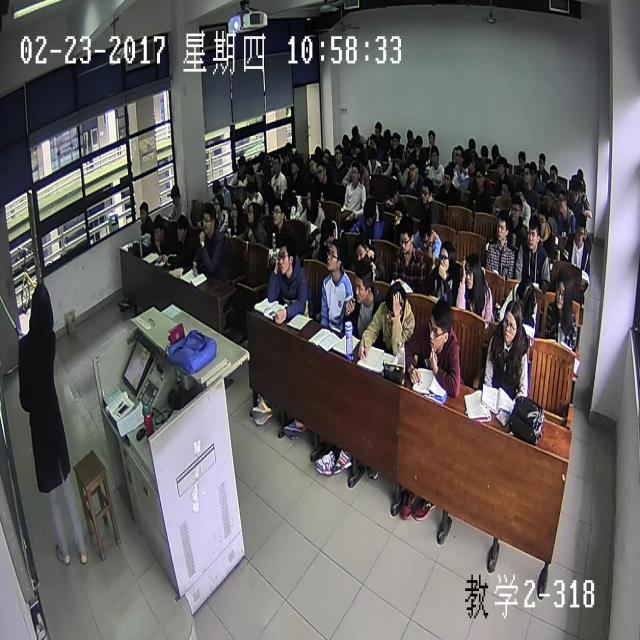person: (30, 278, 54, 326), (429, 299, 452, 349), (383, 281, 408, 323), (354, 263, 374, 304), (554, 270, 574, 307), (354, 233, 376, 266), (437, 239, 457, 275), (462, 252, 482, 288), (518, 275, 535, 316), (504, 300, 520, 343), (278, 241, 294, 276), (326, 238, 342, 273), (397, 217, 413, 252), (150, 214, 167, 243), (418, 211, 432, 246), (526, 213, 539, 247), (536, 202, 549, 235), (320, 216, 333, 248), (386, 180, 402, 205), (574, 210, 586, 243), (243, 163, 258, 189), (544, 181, 556, 212), (137, 198, 151, 224), (392, 205, 404, 235), (496, 211, 508, 241), (568, 178, 580, 208), (169, 182, 182, 209), (174, 213, 187, 239), (362, 197, 374, 225), (420, 177, 434, 201), (494, 152, 506, 180), (366, 150, 382, 170), (201, 206, 213, 232), (285, 136, 298, 160), (270, 203, 283, 227), (454, 146, 466, 172), (228, 200, 242, 222), (210, 175, 222, 200), (366, 128, 378, 153), (389, 150, 401, 175), (306, 189, 318, 212), (354, 150, 369, 168), (280, 145, 290, 171), (282, 191, 295, 211), (408, 159, 418, 185), (244, 180, 255, 203), (235, 153, 245, 178), (248, 202, 258, 227), (428, 145, 439, 167), (513, 182, 523, 206), (557, 190, 567, 213), (411, 128, 422, 148), (500, 178, 510, 200), (509, 195, 519, 217), (372, 118, 383, 137), (381, 128, 392, 147), (404, 126, 415, 145), (390, 128, 400, 148), (450, 147, 460, 167), (214, 192, 224, 212), (315, 158, 324, 180), (258, 152, 267, 172), (307, 157, 317, 175), (426, 128, 437, 144), (443, 166, 451, 188), (467, 138, 477, 155), (528, 159, 538, 176), (517, 150, 526, 168), (490, 144, 499, 161), (351, 164, 359, 183), (475, 168, 483, 186), (524, 162, 530, 186), (274, 153, 281, 173), (468, 158, 476, 175), (550, 165, 558, 182), (350, 123, 358, 139), (313, 146, 321, 161), (334, 146, 342, 160), (480, 145, 488, 159), (538, 153, 544, 170), (342, 132, 348, 147), (576, 167, 582, 182), (322, 150, 329, 162)
